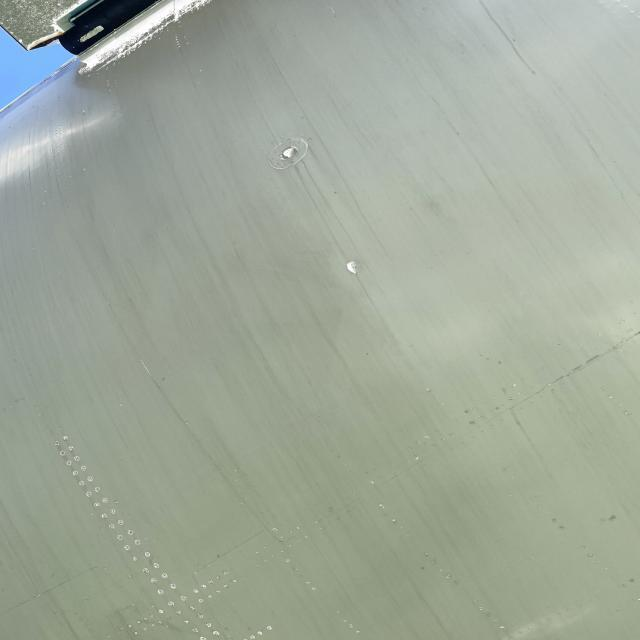crack: (133, 359, 164, 384), (342, 256, 368, 279)
